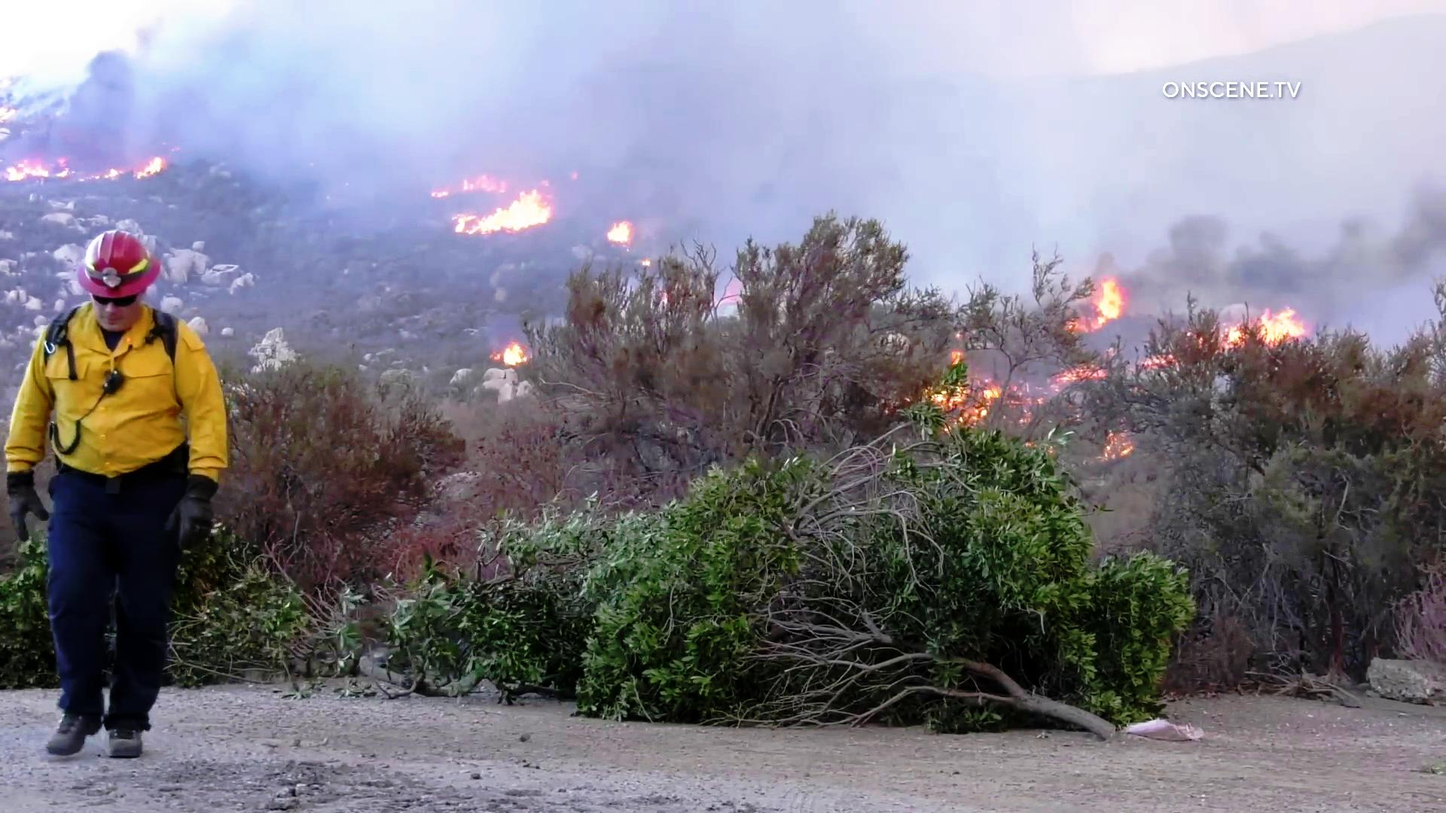fire: (453, 187, 561, 238), (1237, 311, 1324, 350)
smoke: (209, 6, 862, 151), (1121, 185, 1446, 299)
